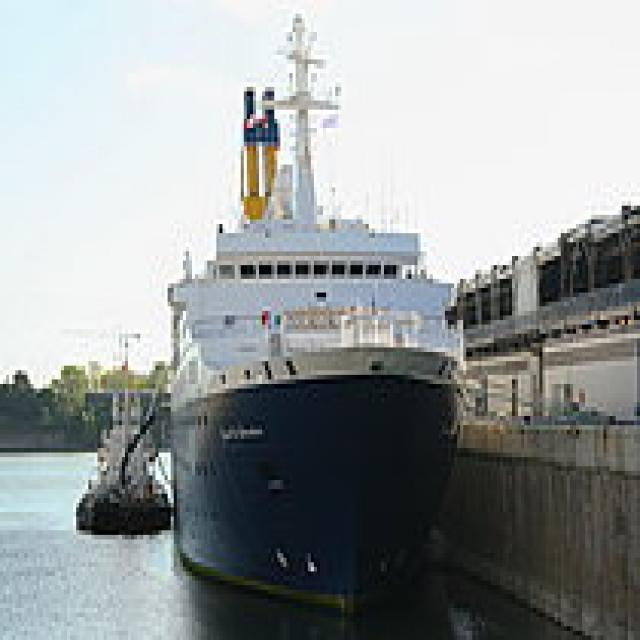Ship: (151, 1, 483, 623)
